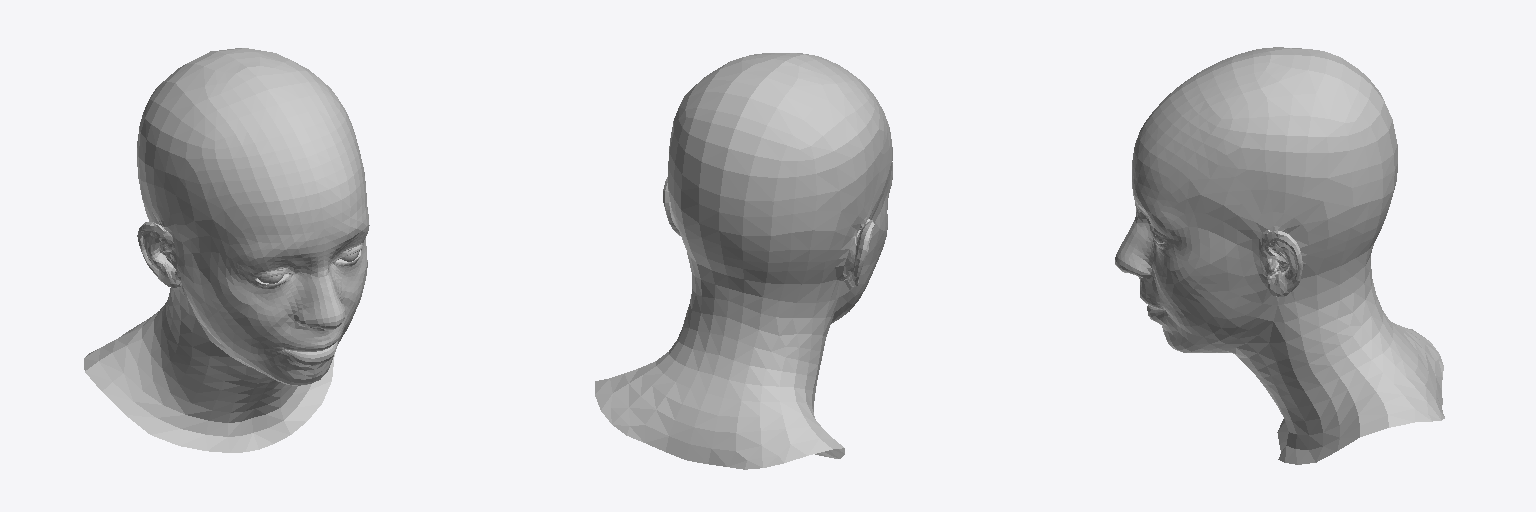
File: dhanu.obj
The picture shows the model from 3 angles: view 1: azimuth 30°, elevation 25°; view 2: azimuth 150°, elevation 25°; view 3: azimuth 270°, elevation 25°; orthographic projection.
Visible parts, largest first — view 1: Head; view 2: Head; view 3: Head.
Boxes of the visible parts, x1,y1,x2,y2 form: Head: [84, 48, 369, 452]; Head: [595, 53, 892, 469]; Head: [1115, 47, 1444, 464].
Bounding box in the file's own units: 0.2048 × 0.3227 × 0.2479.